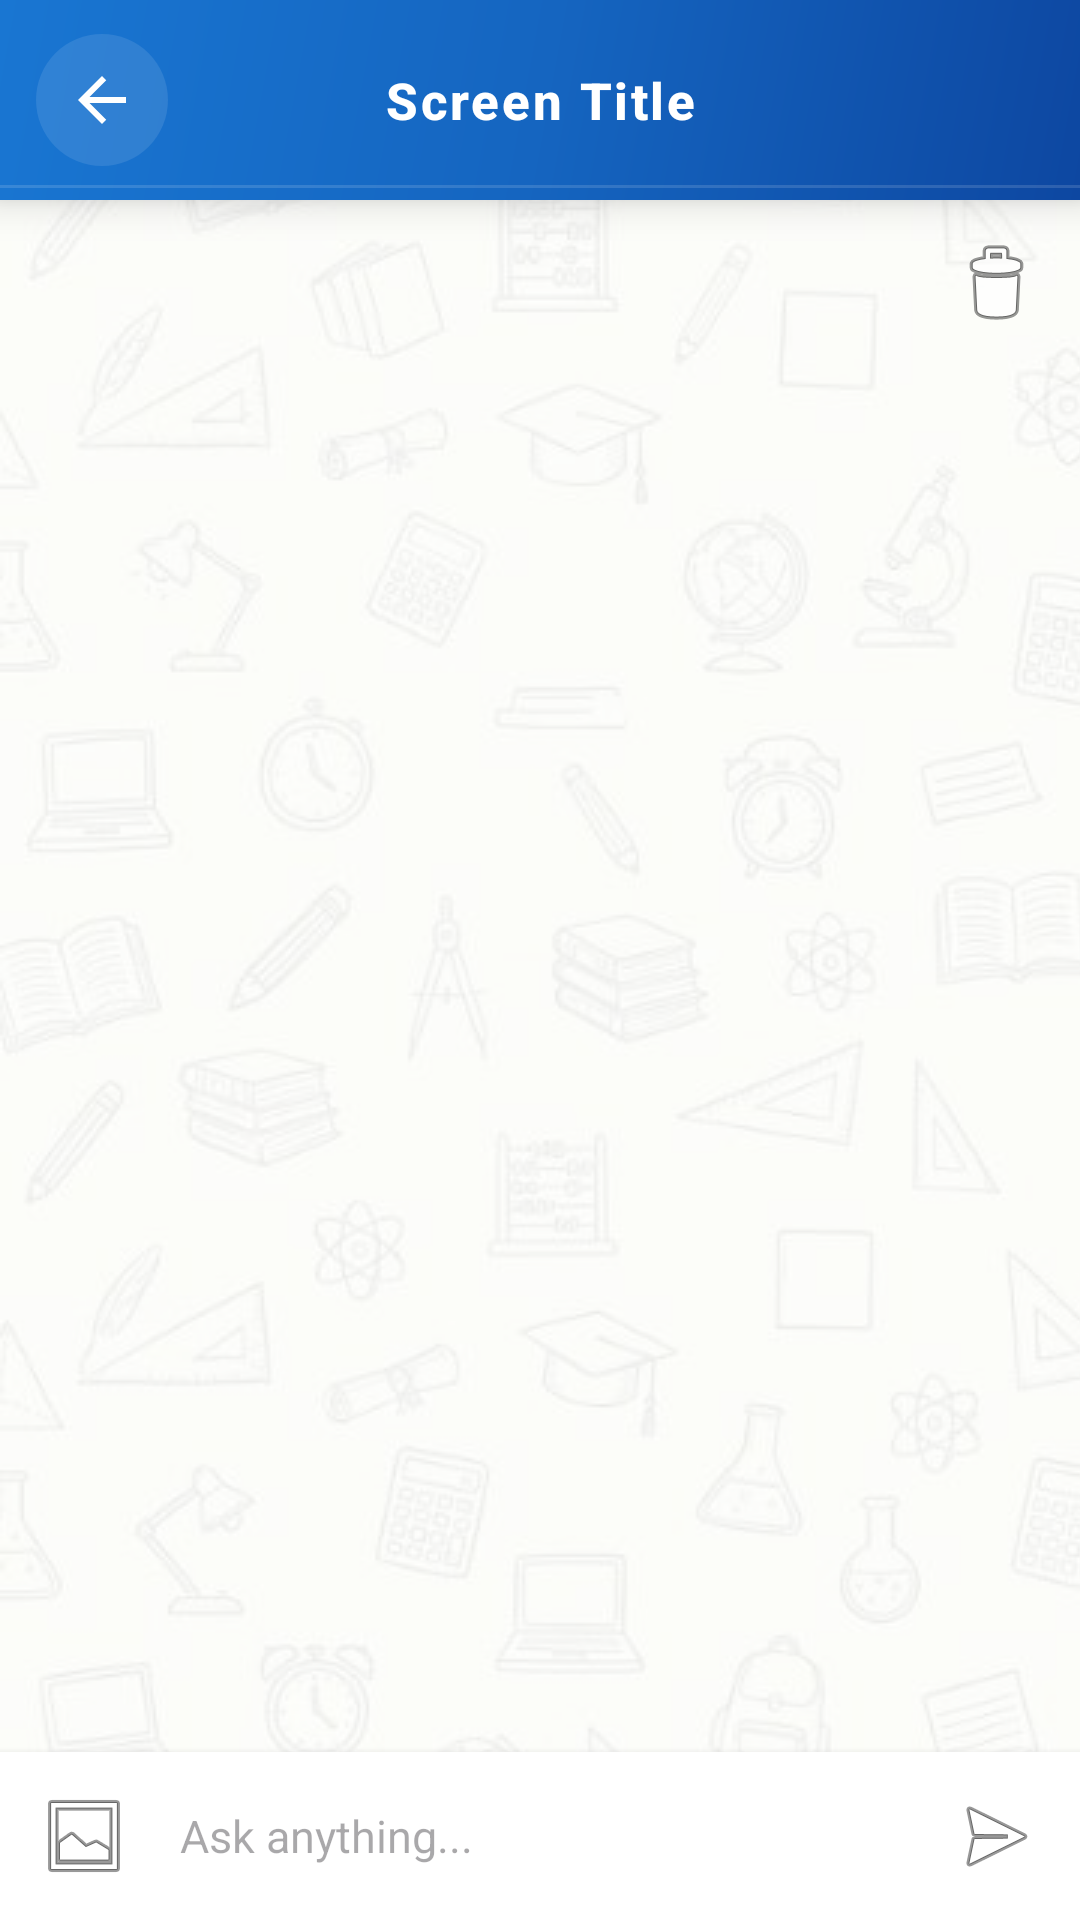

Screen size 1080 x 1920. Icon name, then its box in pixels as (x1, y1, x2, y2):
Attach screenshot: (48, 1800, 120, 1872)
Back: (36, 34, 168, 166)
Clear chat history: (969, 245, 1024, 320)
Send: (966, 1806, 1028, 1867)
